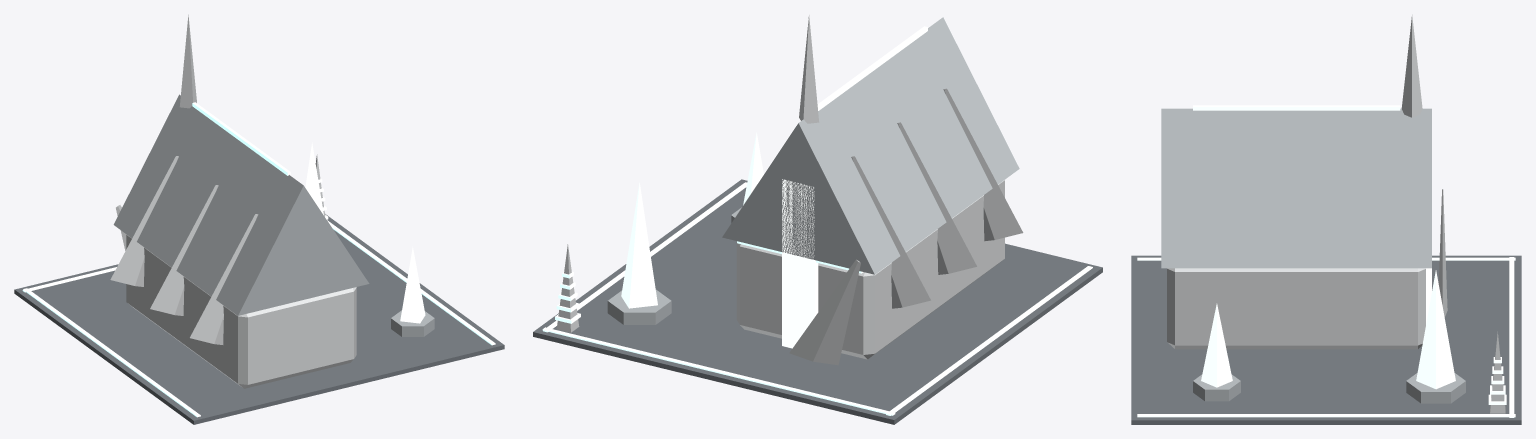
File: zone_low_2_t5.glb
The picture shows the model from 3 angles, left to right: view 1: azimuth 30°, elevation 25°; view 2: azimuth 150°, elevation 25°; view 3: azimuth 270°, elevation 25°; orthographic projection. The views are drawn at different scales.
Visible parts, largest first — view 1: zone_low_2_t5, detail; view 2: zone_low_2_t5, detail; view 3: zone_low_2_t5, detail.
Boxes of the visible parts, x1,y1,x2,y2 form: zone_low_2_t5: [14, 14, 504, 424]; detail: [22, 102, 495, 417]; zone_low_2_t5: [533, 15, 1102, 424]; detail: [542, 26, 1092, 415]; zone_low_2_t5: [1131, 14, 1521, 424]; detail: [1137, 105, 1515, 417].
Size of the model in its own units: 19.6 by 18.98 by 19.6.
